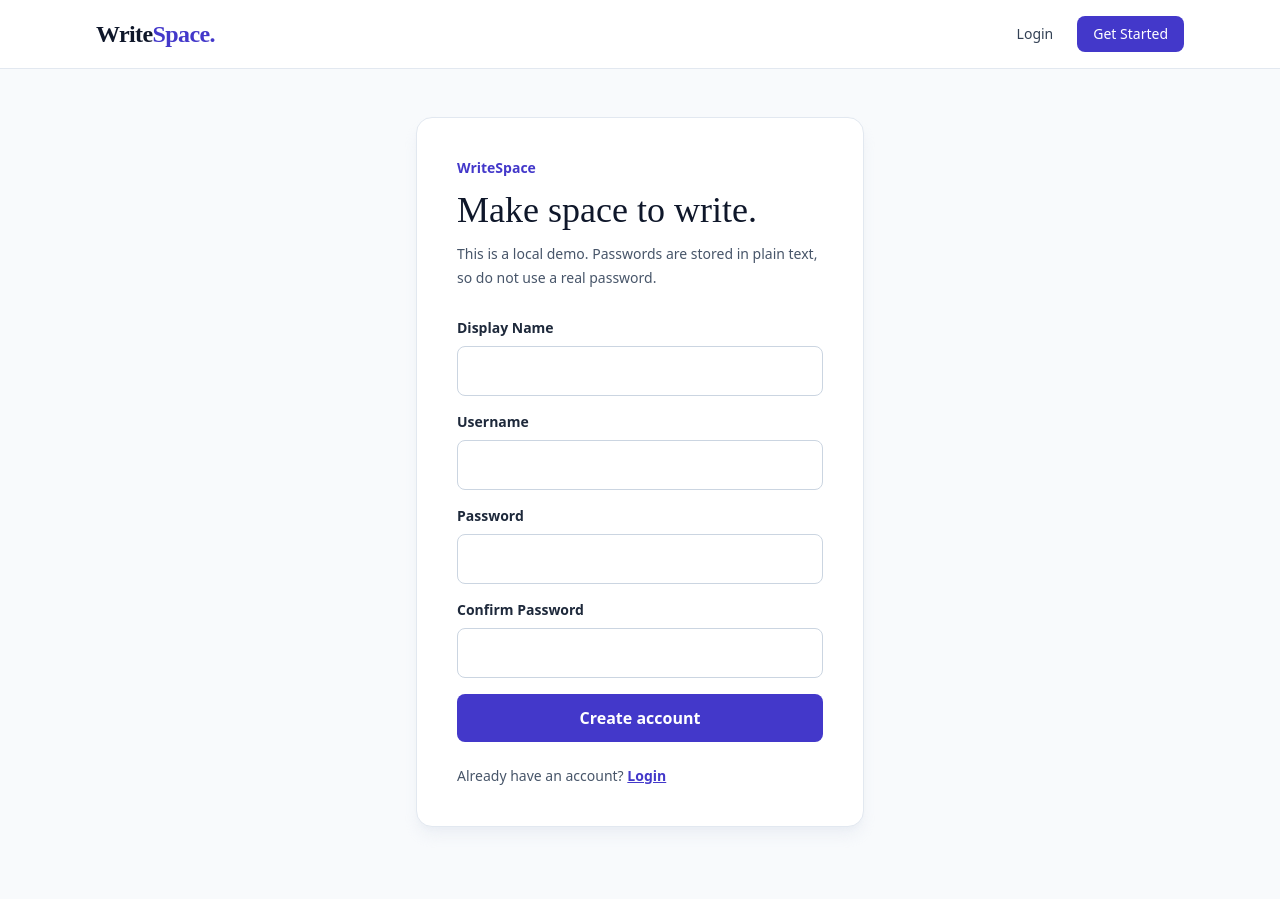
Test: public journeys › explains when the account is saved but its session write fails
Step 1. Type "Ada Writer" into the field labelled "Display Name" → (640, 371), box top-left (457, 346), bottom-right (823, 396)
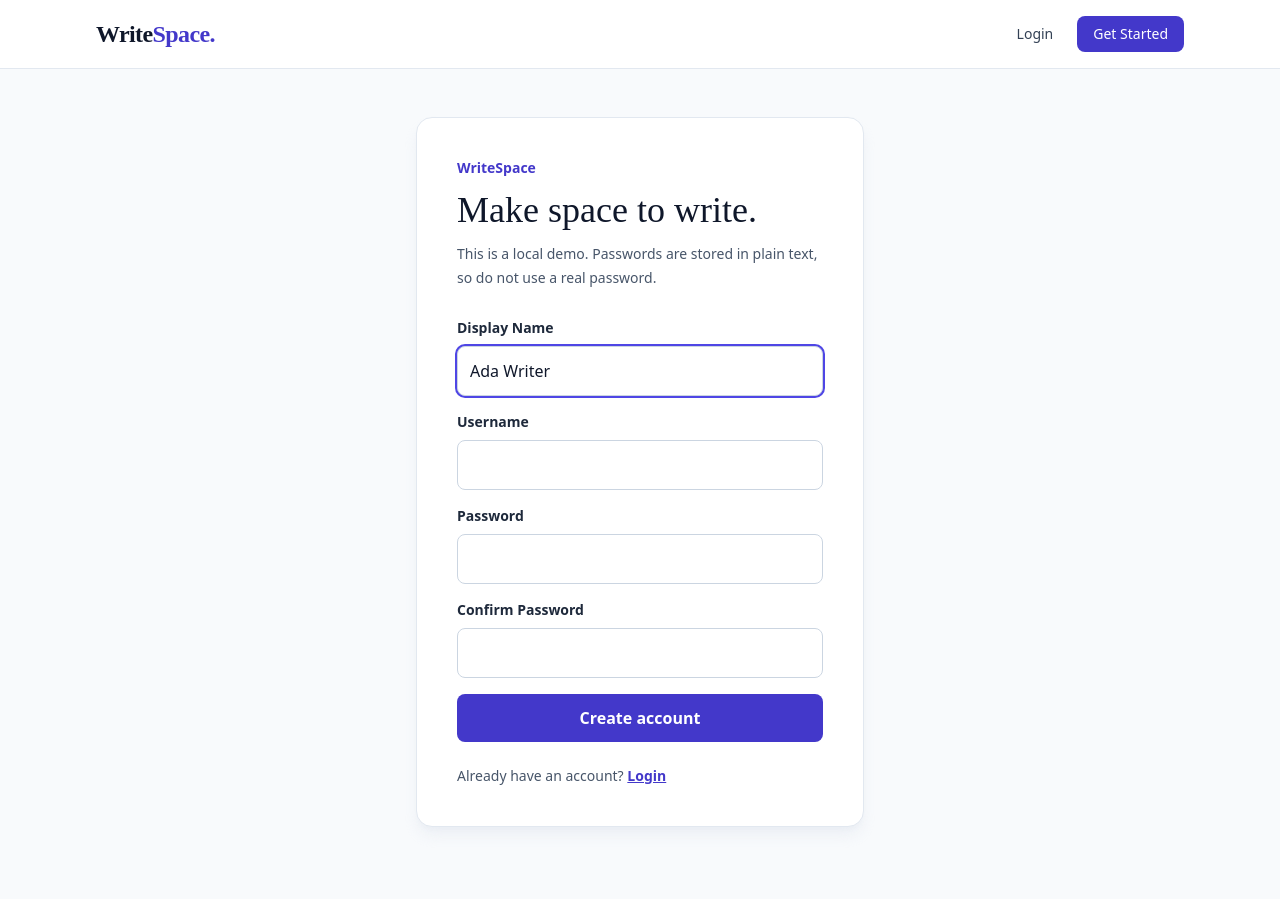
Step 2. Type "ada" into the field labelled "Username" → (640, 465), box top-left (457, 440), bottom-right (823, 490)
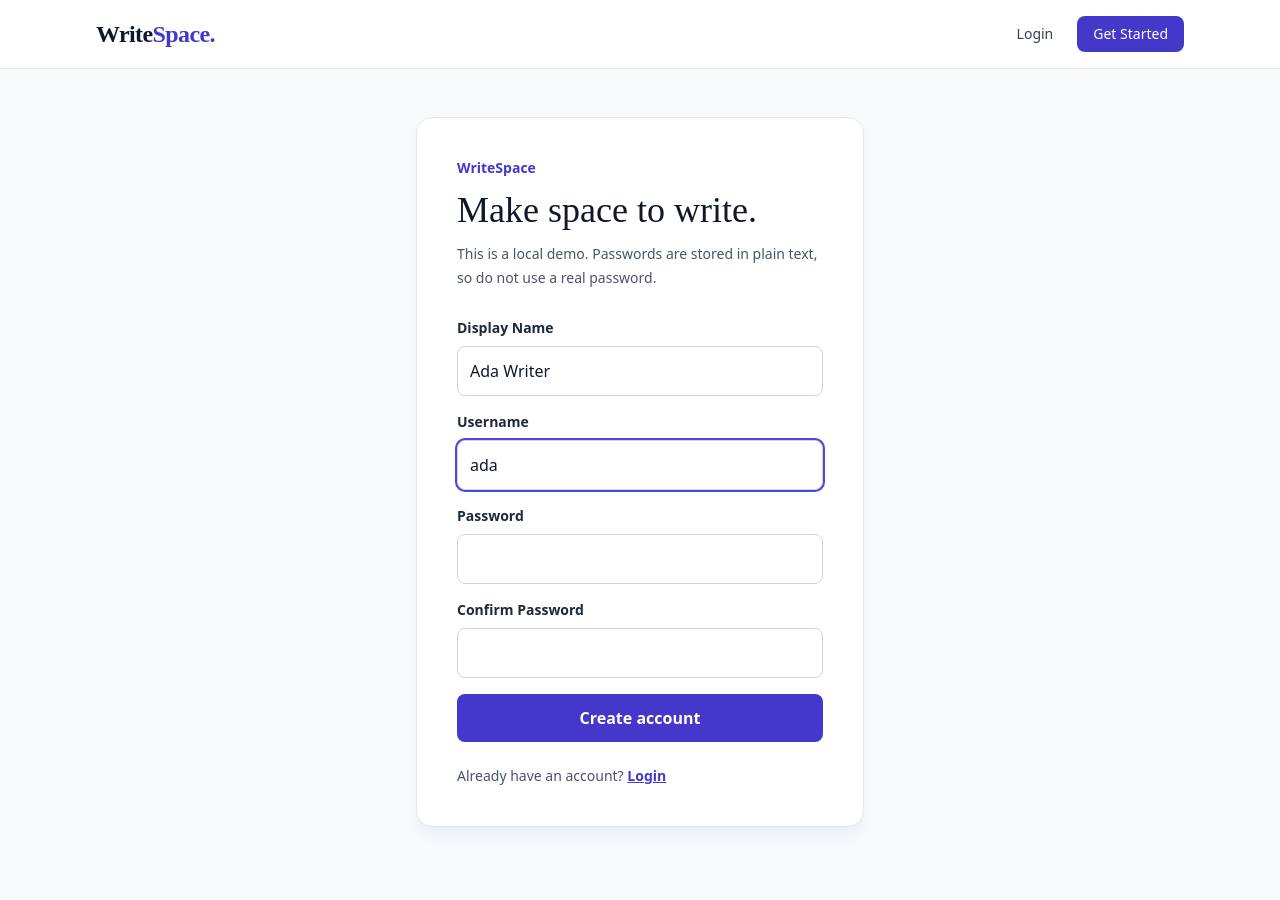
Step 3. Type "demo" into the password field labelled "Password" → (640, 559), box top-left (457, 534), bottom-right (823, 584)
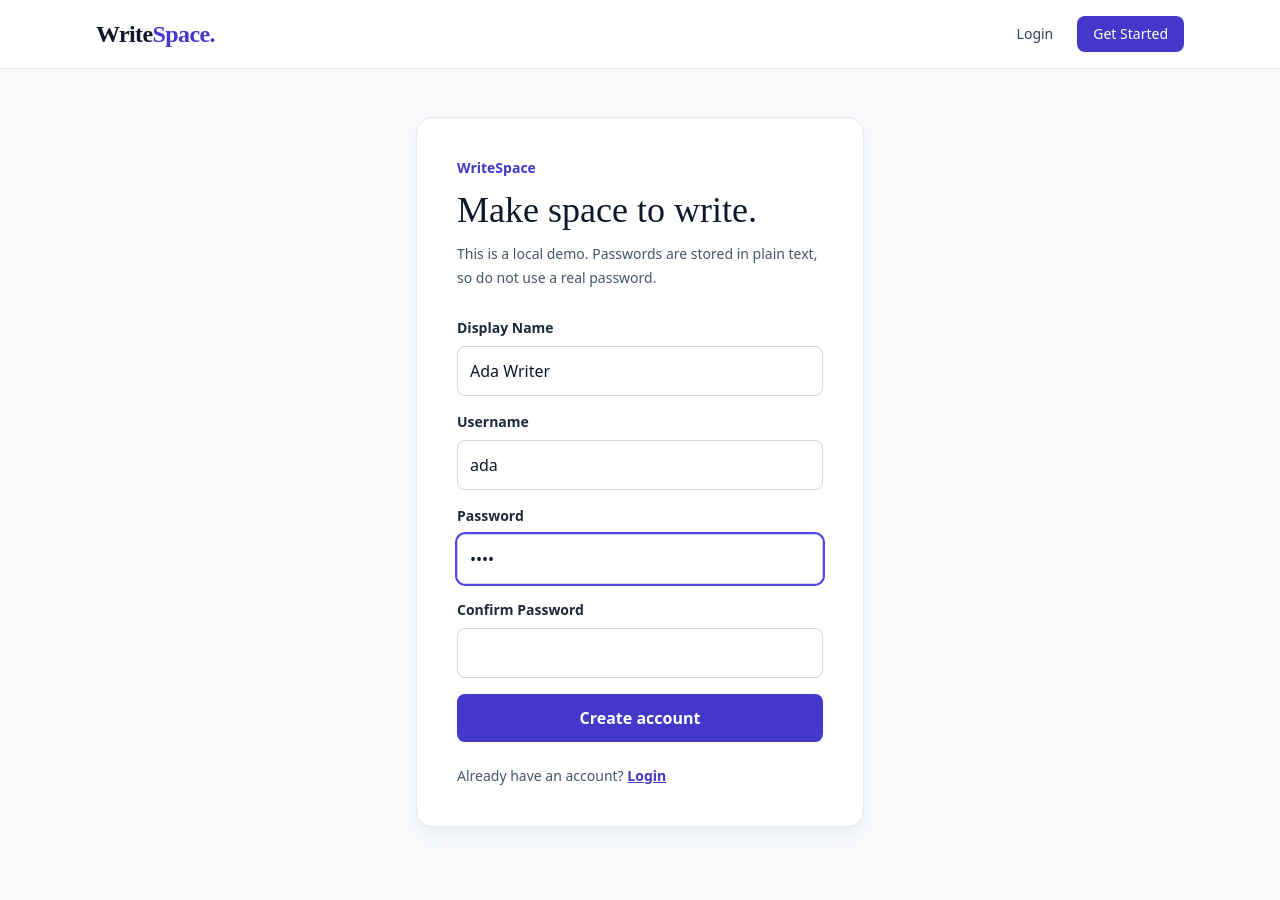
Step 4. Type "demo" into the password field labelled "Confirm Password" → (640, 653), box top-left (457, 628), bottom-right (823, 678)
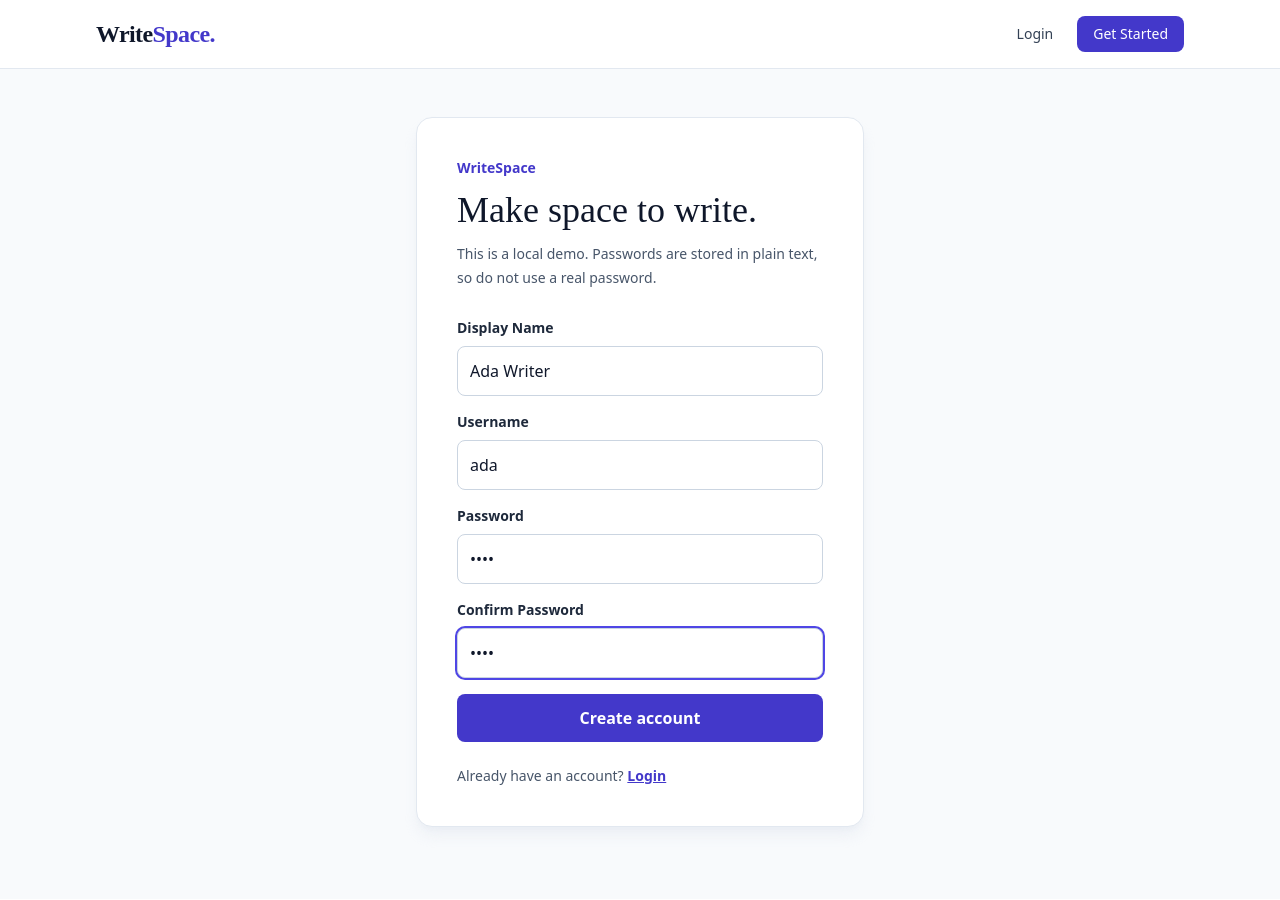
Step 5. Click the button "Create account" → (640, 718), box top-left (457, 694), bottom-right (823, 742)
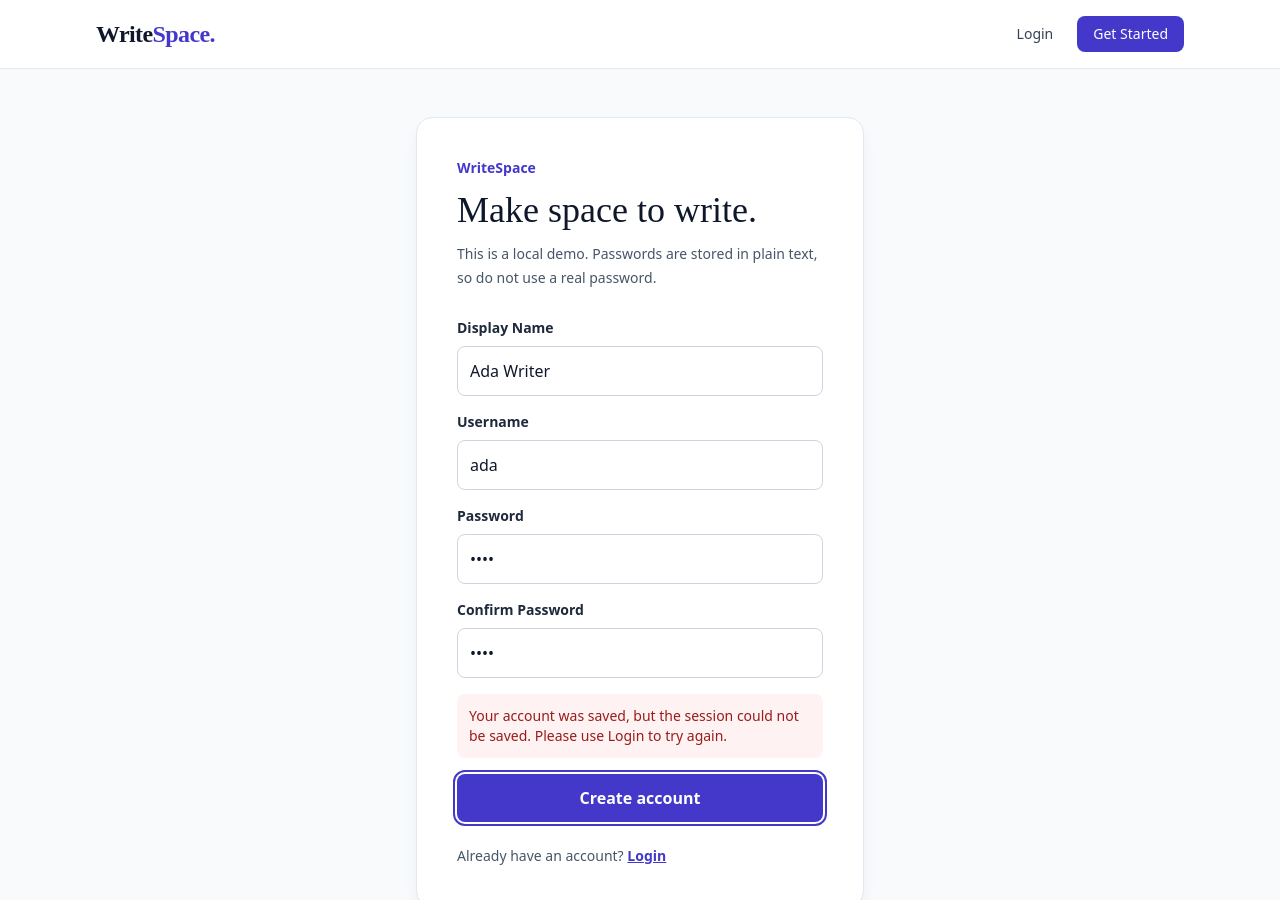
Expected: the message shows "Your account was saved, but the session could not be saved", top-left (469, 706), bottom-right (799, 745)
